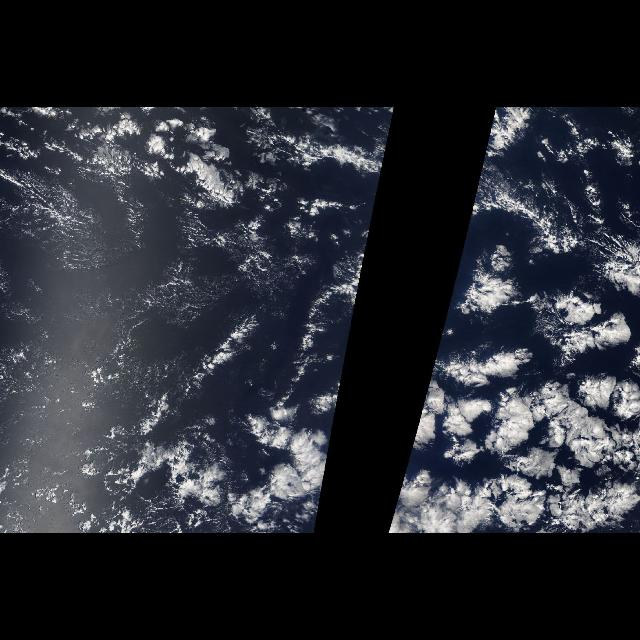Flower: (392, 166, 640, 534), (222, 247, 366, 511)
Sugar: (45, 215, 221, 338)
